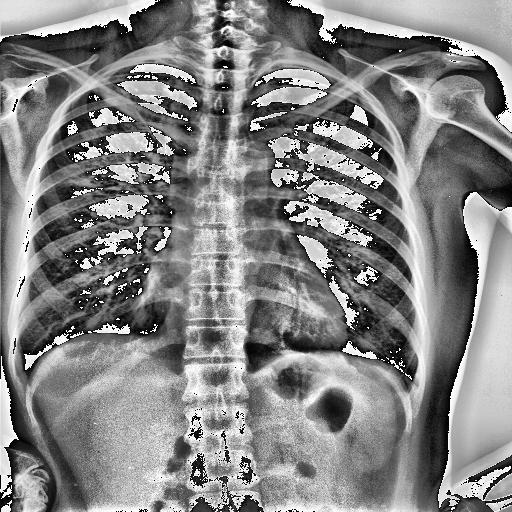10- Pleural effusion: (13, 364, 37, 392), (16, 368, 38, 388), (400, 377, 420, 397), (398, 380, 414, 401)
11- Pleural thickening: (82, 66, 118, 88), (336, 76, 370, 99), (13, 364, 37, 392), (16, 368, 38, 388), (400, 377, 420, 397), (398, 380, 414, 401)
13- Pulmonary fibrosis: (56, 164, 118, 188), (64, 172, 118, 188), (98, 83, 134, 106), (102, 84, 136, 106)
6- Infiltration: (60, 160, 98, 186)
9- Other lesion: (98, 83, 134, 106), (102, 84, 136, 106)
